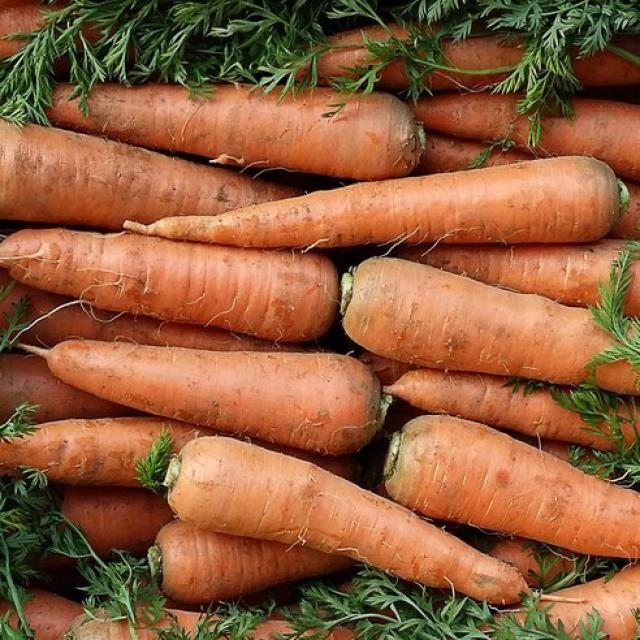carrot: (153, 433, 546, 617), (128, 155, 632, 252), (1, 337, 392, 449), (342, 256, 640, 391), (381, 412, 640, 564), (4, 230, 346, 344), (19, 83, 432, 176), (3, 116, 312, 238)
